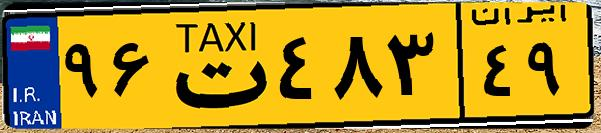3: (385, 28, 445, 110)
4: (270, 28, 330, 110), (475, 38, 525, 113)
6: (110, 28, 158, 98)
8: (330, 28, 385, 110)
9: (57, 26, 110, 100), (525, 38, 570, 115)
ت: (158, 12, 270, 120)
